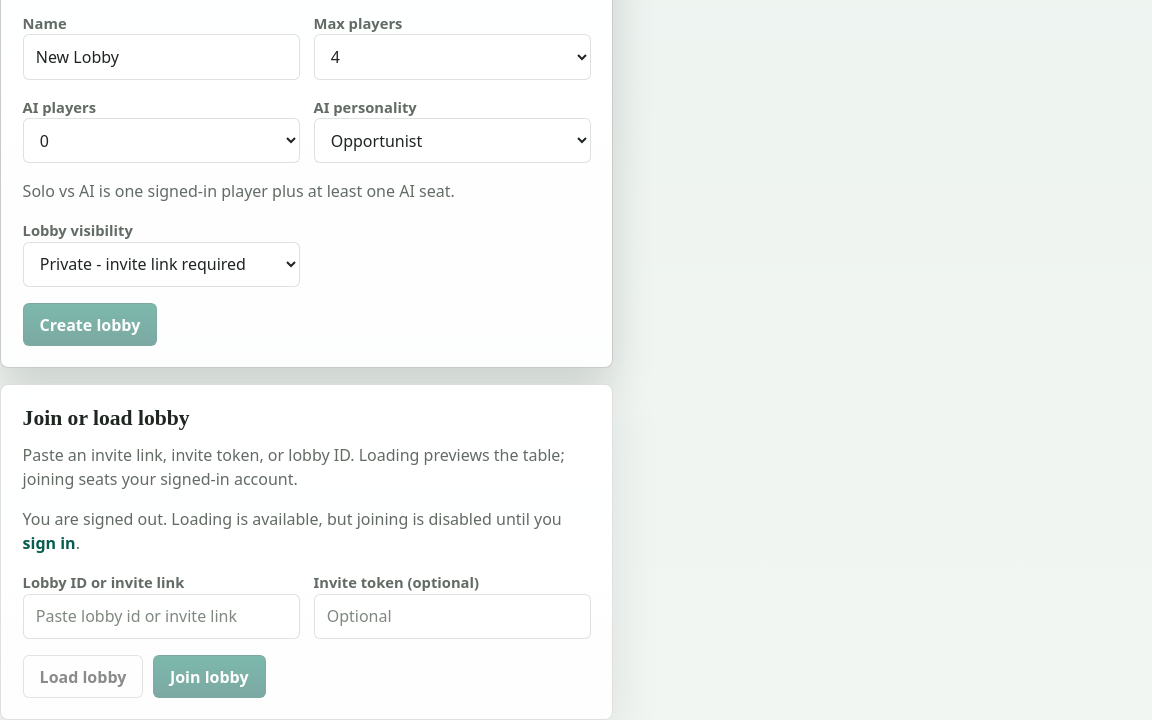
LobbiesPage › makes signed-out browsing and join restrictions explicit
(page scrolled)
Check: the text "loading previews the table; joining seats" is shown, box [23,444,565,490]
Type "lobby-1" into the field labelled "Lobby ID or invite link" at {"x": 161, "y": 616}, box [23,594,300,639]
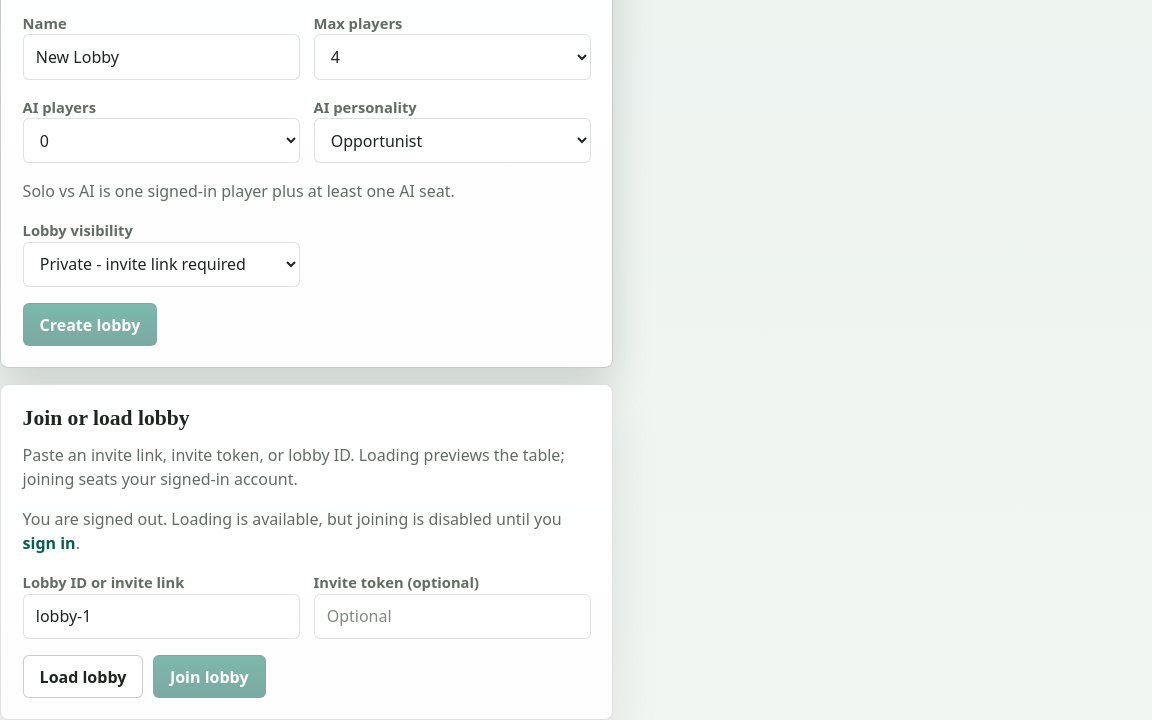
Check: the button "Create lobby" is disabled, box [23,303,157,346]
Check: the button "Load lobby" is enabled, box [23,655,143,698]
